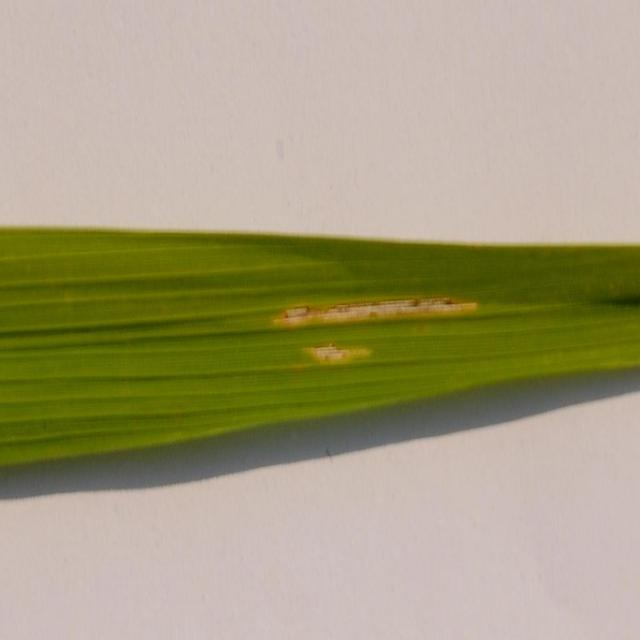Bacterial_Leaf_Blight: (253, 277, 499, 415)
